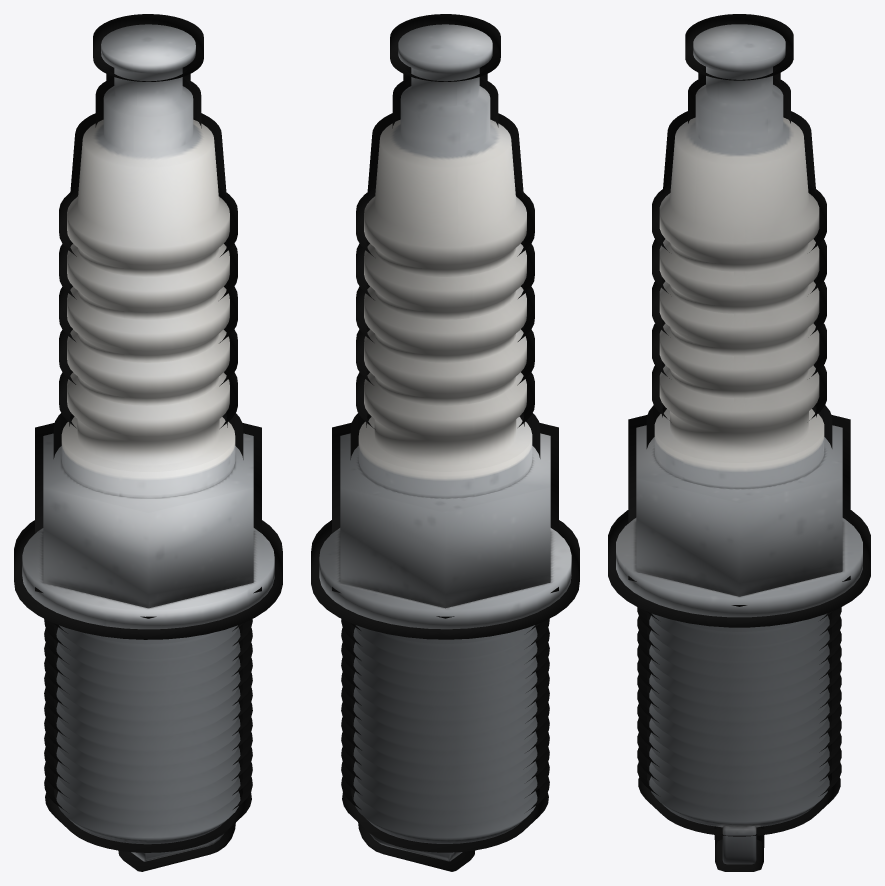
Rendered from SparkPlug.fbx.
3 renders of one model, left to right at view 1: azimuth 30°, elevation 25°; view 2: azimuth 150°, elevation 25°; view 3: azimuth 270°, elevation 25°, orthographic.
Parts seen in each view (by area): view 1: SparkPlug; view 2: SparkPlug; view 3: SparkPlug.
Part boxes in pixels (x1,y1,x2,y2): SparkPlug: (14,14,282,871); SparkPlug: (311,14,579,871); SparkPlug: (608,14,870,871).
Size of the model in its own units: 0.0204 by 0.0691 by 0.0204.
Materials: 1 (1 with a texture image).
